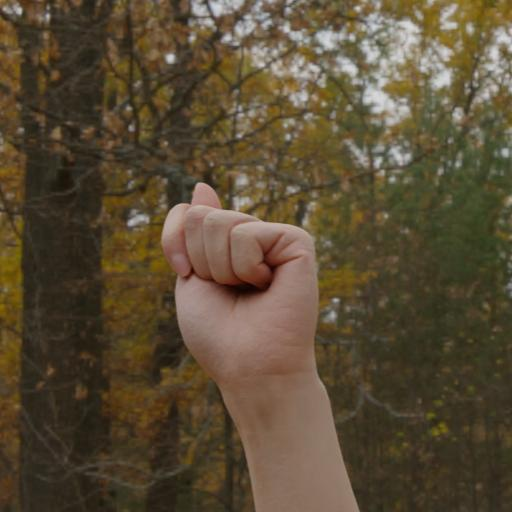T: (142, 167, 351, 449)
